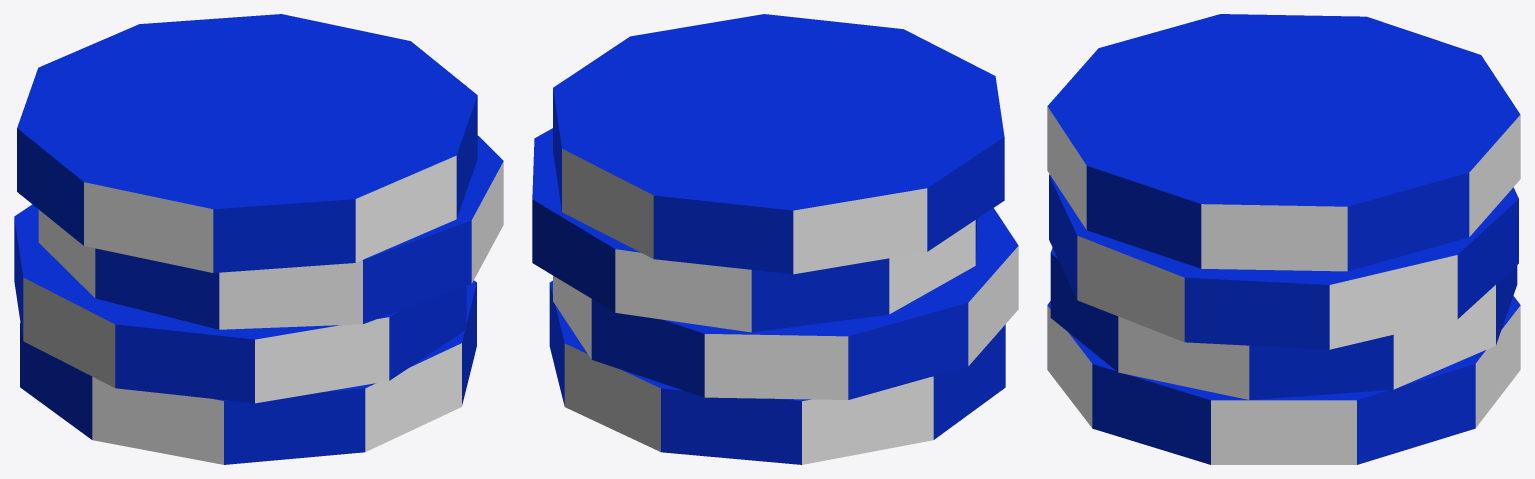
The model's file is prop_chips_blue.fbx.
3 renders of one model, left to right at view 1: azimuth 30°, elevation 25°; view 2: azimuth 150°, elevation 25°; view 3: azimuth 270°, elevation 25°, orthographic.
Parts seen in each view (by area): view 1: Cylinder.003; view 2: Cylinder.003; view 3: Cylinder.003.
Part boxes in pixels (x1,y1,x2,y2): Cylinder.003: (14,14,503,464); Cylinder.003: (532,14,1018,464); Cylinder.003: (1047,14,1520,464).
Bounding box in the file's own units: 45.82 × 26.05 × 43.17.
